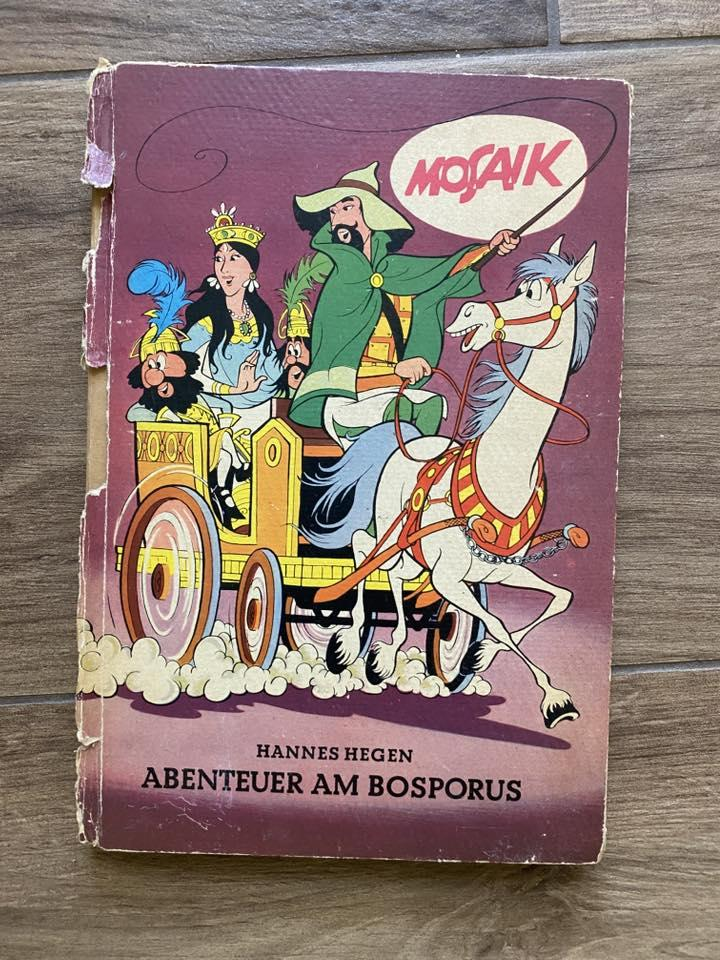comic: (65, 62, 630, 863)
